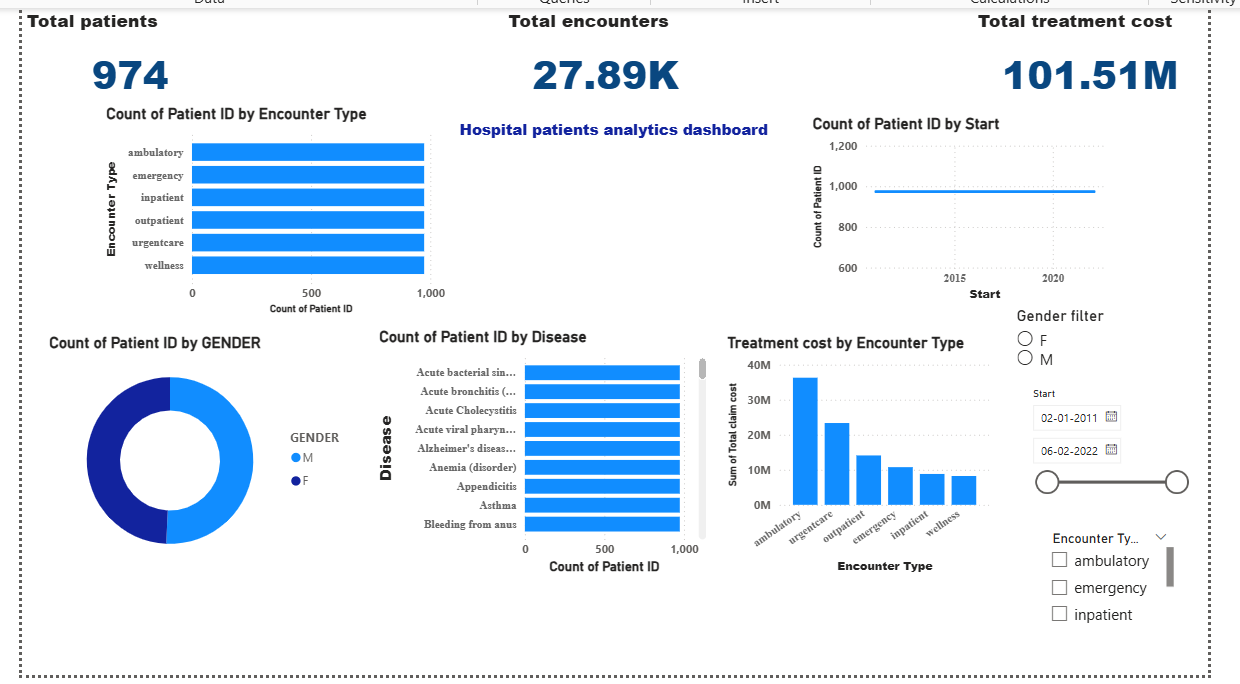

What the dashboard file says about the page in this screenshot:
{"tool":"powerbi","page":{"name":"dashboard","canvas":[1280,720],"ordinal":0},"visuals":[{"type":"card","title":"Total patients","fields":{"Values":["Count(patients.Patient ID)"]},"box":[0,0,233.2,115],"z":0},{"type":"card","title":"Total encounters","fields":{"Values":["Count(encounters.Encounter ID)"]},"box":[520.2,0,220.2,115],"z":1000},{"type":"card","title":"Total treatment cost","fields":{"Values":["Sum(encounters.Total claim cost)"]},"box":[1027.4,0,252.6,115],"z":2000},{"type":"clusteredBarChart","fields":{"Category":["encounters.Encounter Type"],"Y":["CountNonNull(patients.Patient ID)"]},"box":[85.8,103.6,375.7,231.5],"z":3000},{"type":"lineChart","fields":{"Y":["CountNonNull(patients.Patient ID)"],"Category":["encounters.Start"]},"box":[848.5,115,325.5,207.3],"z":4000},{"type":"donutChart","fields":{"Category":["patients.GENDER"],"Y":["CountNonNull(patients.Patient ID)"]},"box":[24.3,351.4,343.3,254.2],"z":5000},{"type":"clusteredBarChart","fields":{"Category":["encounters.Disease"],"Y":["CountNonNull(patients.Patient ID)"]},"box":[380.5,344.9,362.7,270.4],"z":6000},{"type":"clusteredColumnChart","title":"Treatment cost by Encounter Type","fields":{"Category":["encounters.Encounter Type"],"Y":["Sum(encounters.Total claim cost)"]},"box":[756.2,351.4,293.1,263.9],"z":7000},{"type":"listSlicer","title":"Gender filter","fields":{"Values":["patients.GENDER"]},"box":[1068.7,322.2,210.5,192.7],"z":8000},{"type":"slicer","fields":{"Values":["encounters.Start"]},"box":[1078.4,404.8,189.4,121.4],"z":9000},{"type":"slicer","title":"Encounter Type filter","fields":{"Values":["encounters.Encounter Type"]},"box":[1099.5,558.6,149,115],"z":10000},{"type":"textbox","box":[461.5,115,354.6,81],"z":11000}]}

Visuals, with their boxes on the page's 1280x720 design canvas (x1, y1, x2, y2). These are canvas units, not pixel positions in the 1240x684 screenshot, which may show the page scaled, cropped or inside an application window:
"Total patients" card: <box>0,0,233,115</box>
"Total encounters" card: <box>520,0,740,115</box>
"Total treatment cost" card: <box>1027,0,1280,115</box>
clusteredBarChart - encounters.Encounter Type x CountNonNull(patients.Patient ID): <box>86,104,462,335</box>
lineChart - CountNonNull(patients.Patient ID) x encounters.Start: <box>848,115,1174,322</box>
donutChart - patients.GENDER x CountNonNull(patients.Patient ID): <box>24,351,368,606</box>
clusteredBarChart - encounters.Disease x CountNonNull(patients.Patient ID): <box>380,345,743,615</box>
"Treatment cost by Encounter Type" clusteredColumnChart: <box>756,351,1049,615</box>
"Gender filter" listSlicer: <box>1069,322,1279,515</box>
slicer - encounters.Start: <box>1078,405,1268,526</box>
"Encounter Type filter" slicer: <box>1100,559,1248,674</box>
textbox: <box>462,115,816,196</box>
